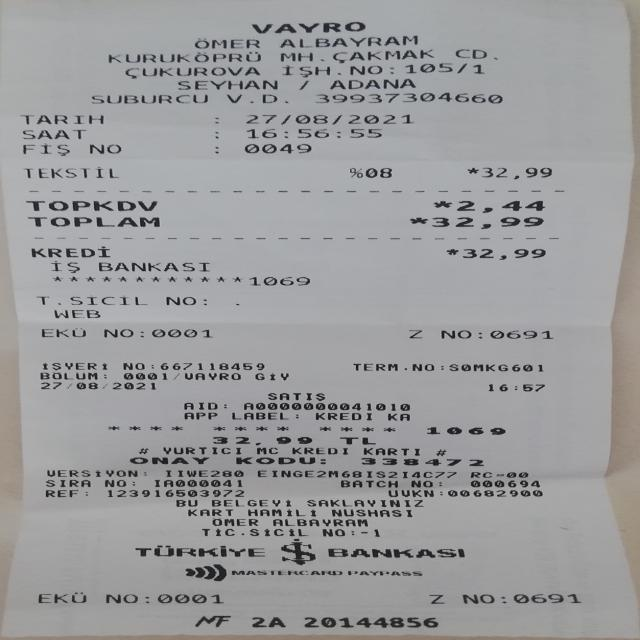text: (328, 541, 463, 566), (136, 539, 262, 563), (257, 468, 455, 479), (316, 92, 502, 103), (303, 615, 437, 629), (108, 52, 261, 64), (243, 401, 408, 412), (245, 127, 380, 140), (244, 114, 411, 124), (123, 67, 261, 78), (357, 362, 507, 372), (27, 216, 158, 227), (91, 92, 207, 104), (98, 260, 210, 272), (361, 456, 482, 467), (432, 216, 542, 228), (25, 200, 156, 210), (277, 37, 420, 46), (40, 294, 146, 306), (250, 22, 365, 33), (331, 50, 433, 62), (107, 489, 243, 498), (457, 199, 543, 213), (177, 78, 277, 90), (280, 65, 382, 76), (23, 167, 118, 178), (307, 499, 423, 508), (159, 361, 263, 371), (40, 381, 154, 390), (31, 245, 108, 258), (213, 436, 312, 446), (20, 113, 102, 125), (462, 248, 544, 260), (482, 166, 550, 180), (272, 517, 367, 527), (328, 78, 414, 89), (46, 468, 136, 478), (232, 569, 342, 577), (198, 528, 308, 536), (403, 63, 482, 74), (151, 478, 244, 487), (211, 498, 290, 508), (163, 445, 241, 455), (236, 456, 314, 466), (130, 455, 207, 465), (165, 468, 242, 478), (225, 92, 288, 104), (424, 426, 507, 435), (22, 128, 84, 140), (448, 489, 541, 497), (243, 143, 310, 154), (151, 326, 212, 338), (332, 508, 412, 517), (191, 38, 262, 48), (470, 478, 540, 488), (489, 329, 552, 340), (248, 275, 309, 286), (157, 593, 223, 603), (515, 593, 580, 603), (42, 361, 106, 371), (248, 508, 316, 517), (38, 591, 86, 603), (231, 411, 287, 421), (315, 411, 371, 421), (362, 446, 418, 456), (19, 144, 69, 155), (268, 392, 323, 402), (292, 446, 346, 456), (348, 570, 422, 577), (41, 326, 84, 338), (53, 308, 99, 319), (40, 371, 96, 380), (489, 383, 544, 392), (341, 479, 396, 488), (182, 372, 242, 380), (123, 370, 170, 380), (194, 614, 230, 627), (187, 507, 232, 517), (45, 478, 89, 488), (253, 614, 284, 628), (454, 49, 486, 62), (86, 142, 120, 154), (212, 517, 256, 526), (49, 260, 82, 272), (386, 489, 434, 497), (105, 591, 134, 604), (365, 166, 391, 180), (276, 52, 312, 62), (461, 593, 493, 604), (340, 436, 374, 446), (104, 326, 132, 338), (511, 363, 548, 372), (255, 371, 287, 381), (184, 400, 216, 410), (170, 294, 193, 307), (441, 329, 470, 339), (45, 489, 77, 498), (184, 411, 215, 420), (432, 199, 449, 212), (506, 469, 528, 479), (175, 498, 197, 508), (410, 216, 428, 228), (123, 361, 144, 371), (256, 446, 277, 456), (470, 469, 491, 479), (104, 478, 124, 488), (387, 412, 409, 421), (411, 479, 432, 488), (380, 63, 394, 76), (349, 166, 362, 180), (322, 528, 344, 536), (428, 593, 442, 604), (446, 248, 458, 260), (199, 294, 211, 306), (467, 166, 477, 180), (361, 528, 378, 536), (409, 329, 422, 339), (314, 50, 323, 63), (297, 78, 307, 89), (500, 593, 510, 604), (147, 592, 156, 604), (138, 445, 148, 455), (435, 446, 445, 456), (210, 131, 222, 138), (173, 371, 179, 381), (214, 143, 218, 155), (478, 329, 482, 339), (320, 456, 324, 466), (214, 114, 217, 124), (150, 361, 153, 371), (350, 528, 353, 536), (140, 327, 142, 338), (223, 400, 225, 410), (132, 478, 134, 488), (295, 411, 297, 420), (85, 489, 87, 498), (439, 479, 440, 488), (440, 489, 441, 497)
